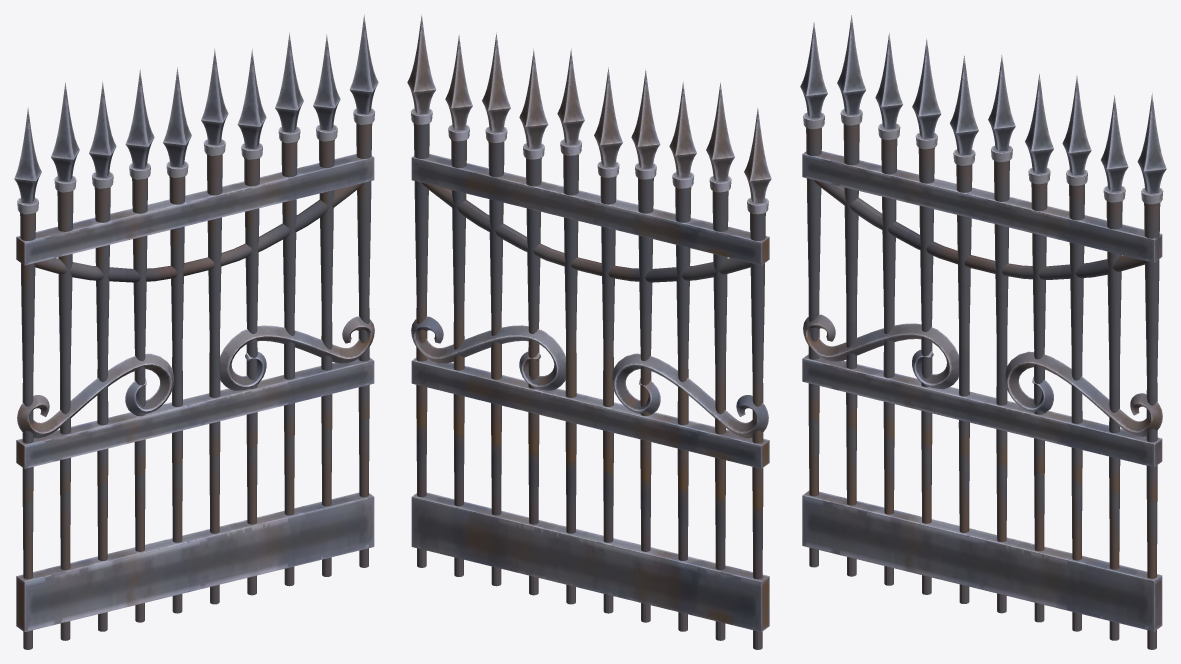
File: city_fence_ornament.glb
3 views of the same model, side by side, from view 1: azimuth 30°, elevation 25°; view 2: azimuth 150°, elevation 25°; view 3: azimuth 330°, elevation 25° (orthographic).
Parts seen in each view (by area): view 1: Prop_MetalFence_Ornament; view 2: Prop_MetalFence_Ornament; view 3: Prop_MetalFence_Ornament.
Part boxes in pixels (x1=…): Prop_MetalFence_Ornament: x1=14, y1=14, x2=378, y2=649; Prop_MetalFence_Ornament: x1=407, y1=14, x2=771, y2=649; Prop_MetalFence_Ornament: x1=800, y1=15, x2=1166, y2=649.
Bounding box in the file's own units: 1.95 × 2.85 × 0.156.
1 material, 1 textured.
